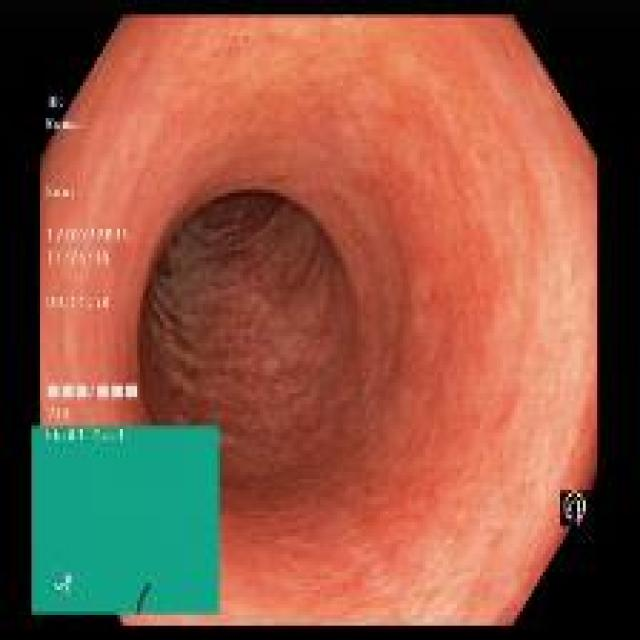ulcerative-colitis: (140, 191, 594, 612)
